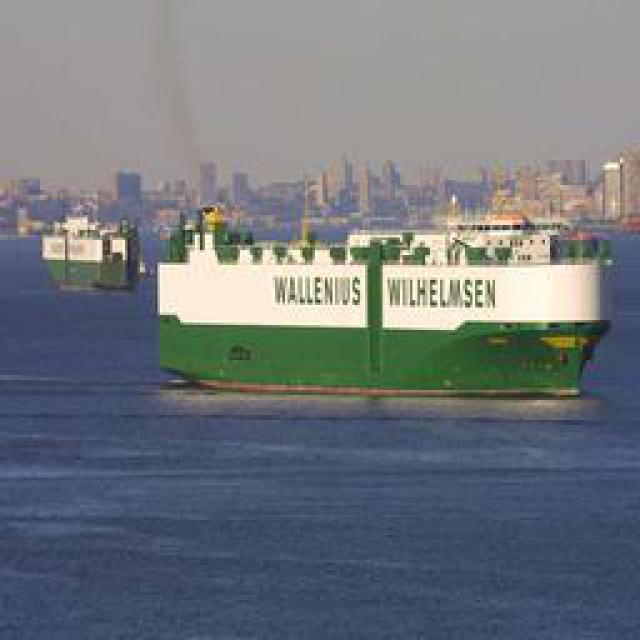Ship: (153, 203, 617, 399), (28, 196, 148, 297)
